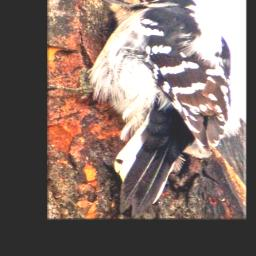Woodpecker: (49, 0, 242, 219)
